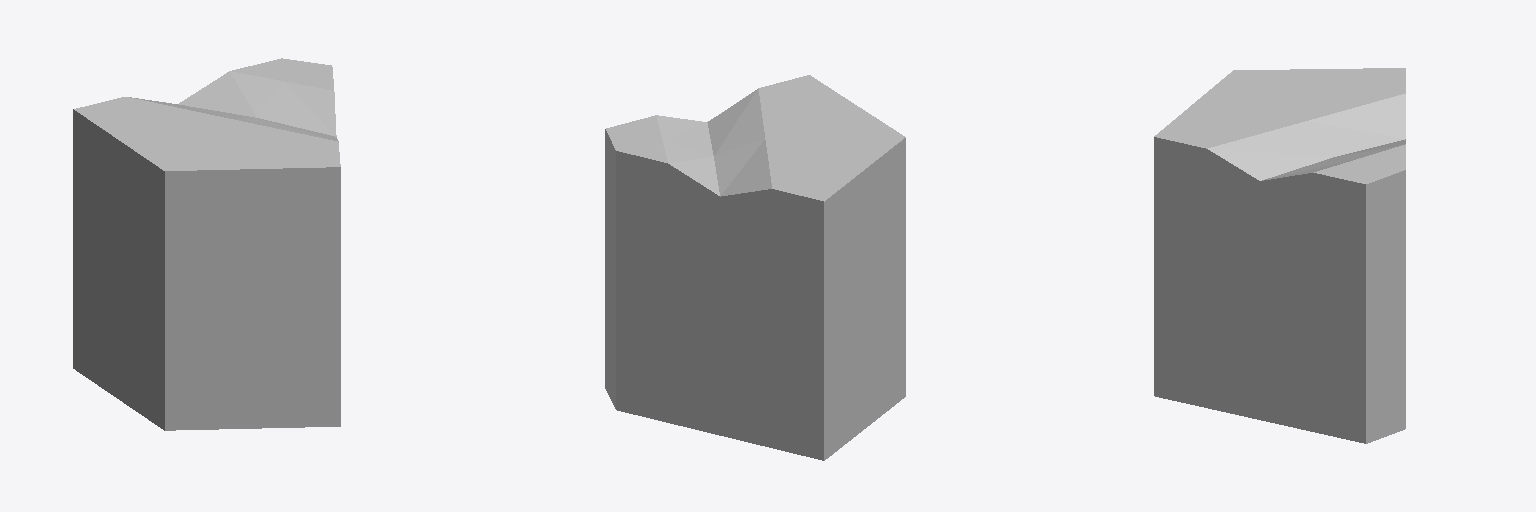
The model's file is TD_Waterwalkway_Corner62.obj.
The picture shows the model from 3 angles: view 1: azimuth 30°, elevation 25°; view 2: azimuth 150°, elevation 25°; view 3: azimuth 270°, elevation 25°; orthographic projection.
Visible parts, largest first — view 1: pCube18; view 2: pCube18; view 3: pCube18.
Part boxes in pixels (x1,y1,x2,y2): pCube18: (73, 58, 340, 430); pCube18: (605, 75, 905, 460); pCube18: (1154, 68, 1405, 443).
Bounding box in the file's own units: 2.29 × 2.38 × 2.1.